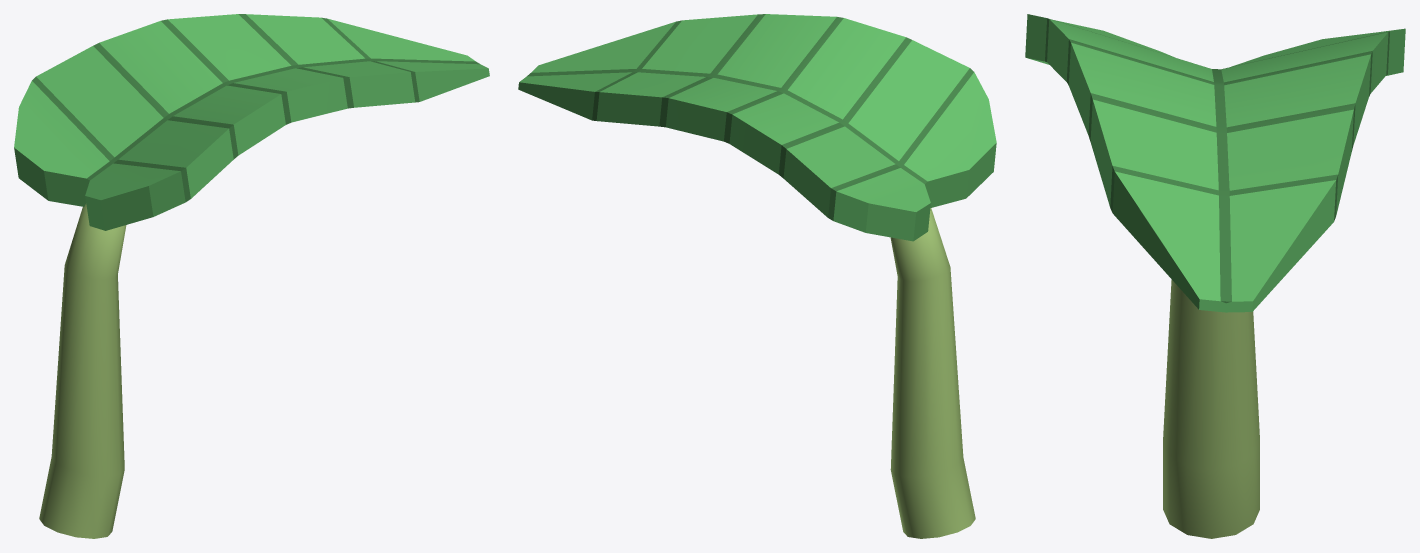
The model's file is BeanPlantS1.fbx.
3 renders of one model, left to right at view 1: azimuth 30°, elevation 25°; view 2: azimuth 150°, elevation 25°; view 3: azimuth 270°, elevation 25°, orthographic. The views are drawn at different scales.
Parts seen in each view (by area): view 1: Cylinder.006; view 2: Cylinder.006; view 3: Cylinder.006.
Part boxes in pixels (box(x1,y1,x2,y2)): Cylinder.006: box(14, 14, 489, 538); Cylinder.006: box(518, 14, 996, 538); Cylinder.006: box(1025, 14, 1405, 538).
Bounding box in the file's own units: 174 × 167 × 99.81.
